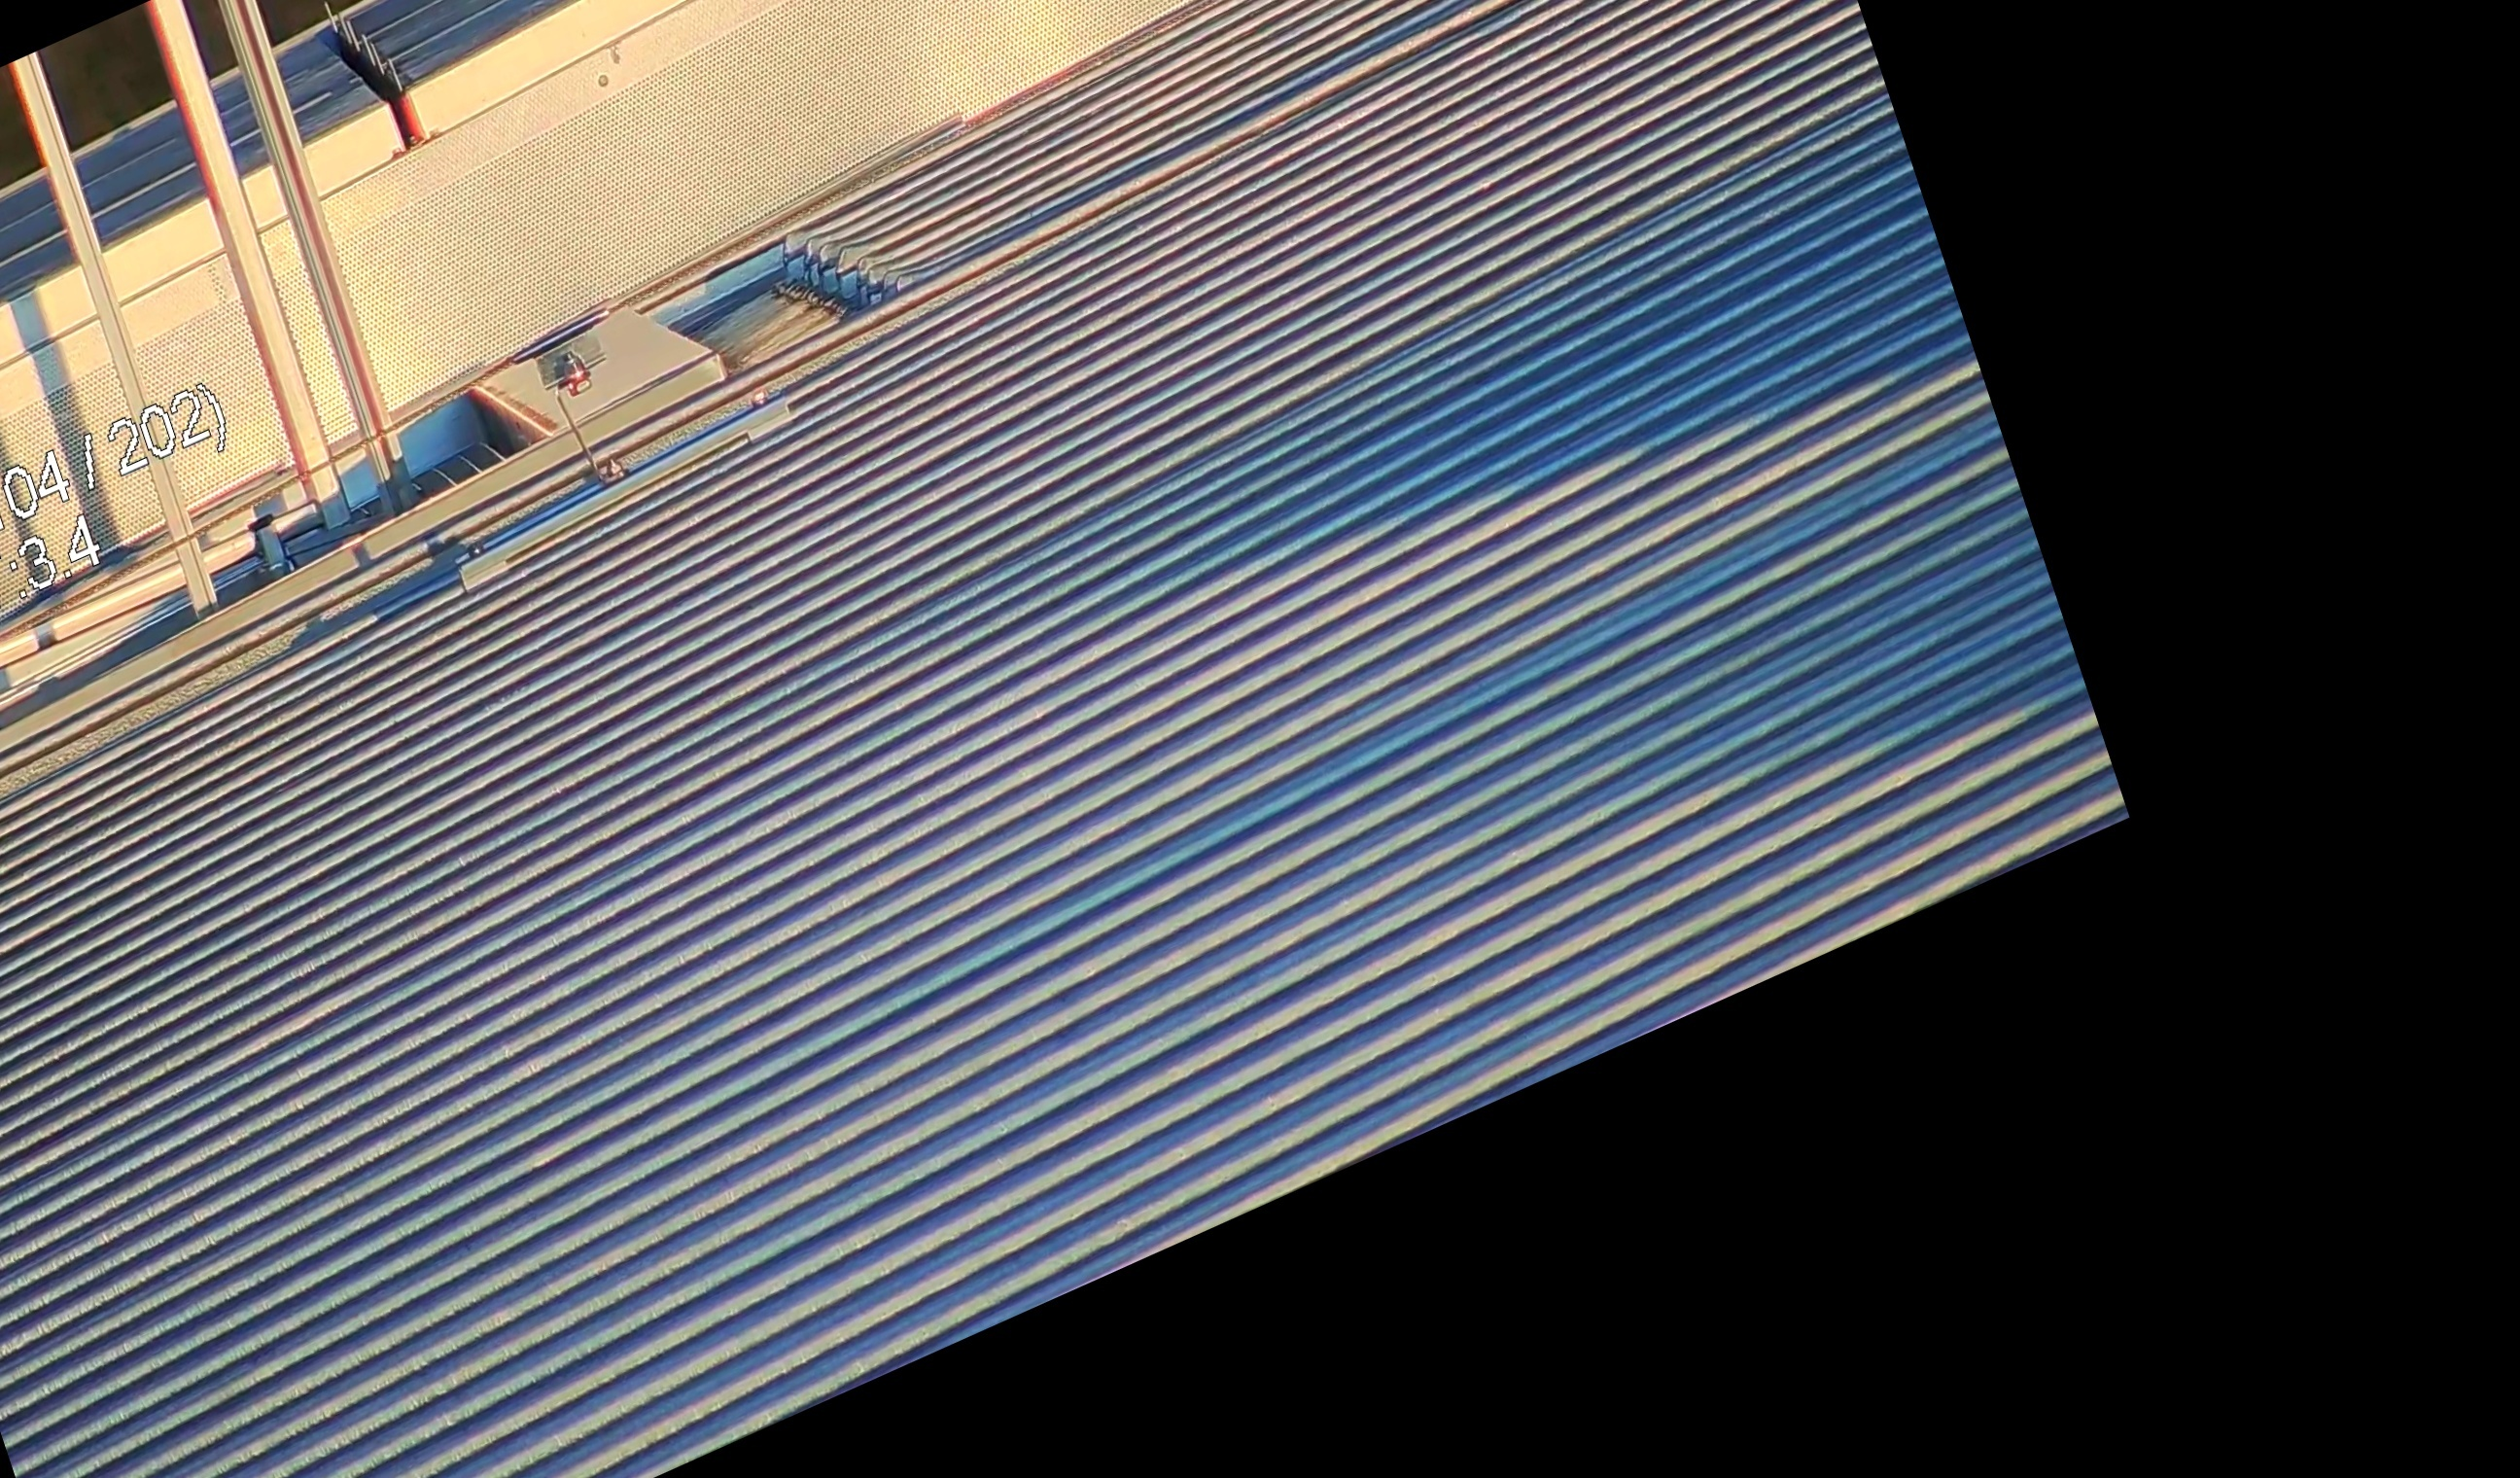Other: (295, 0, 445, 176)
